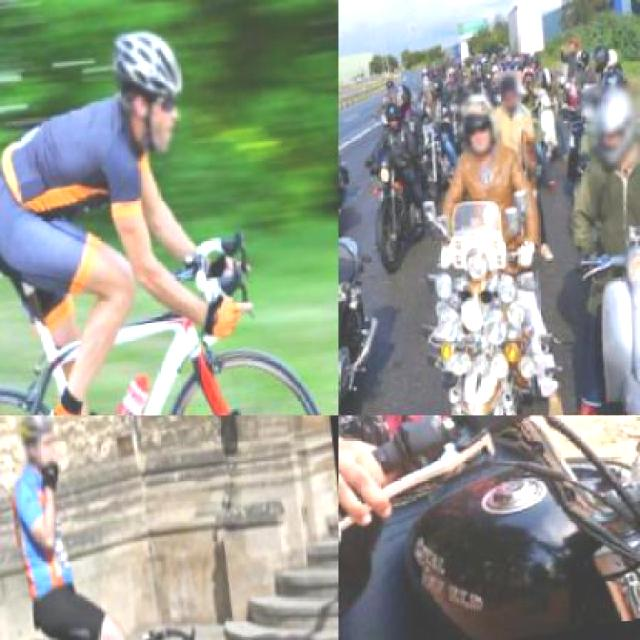With Helmet: (101, 15, 199, 168), (580, 80, 638, 175), (455, 86, 513, 174), (9, 415, 63, 474), (390, 80, 421, 120), (378, 99, 409, 139), (591, 42, 615, 78)
Without Helmet: (496, 71, 527, 120)
